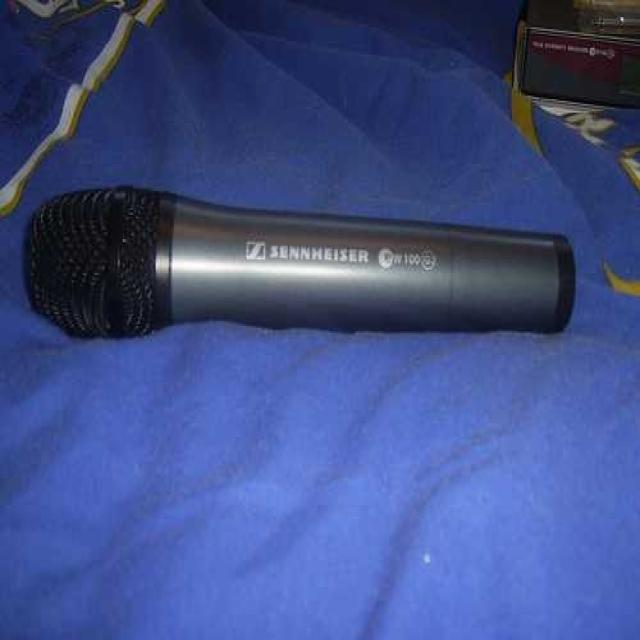microphone: (21, 179, 588, 361)
